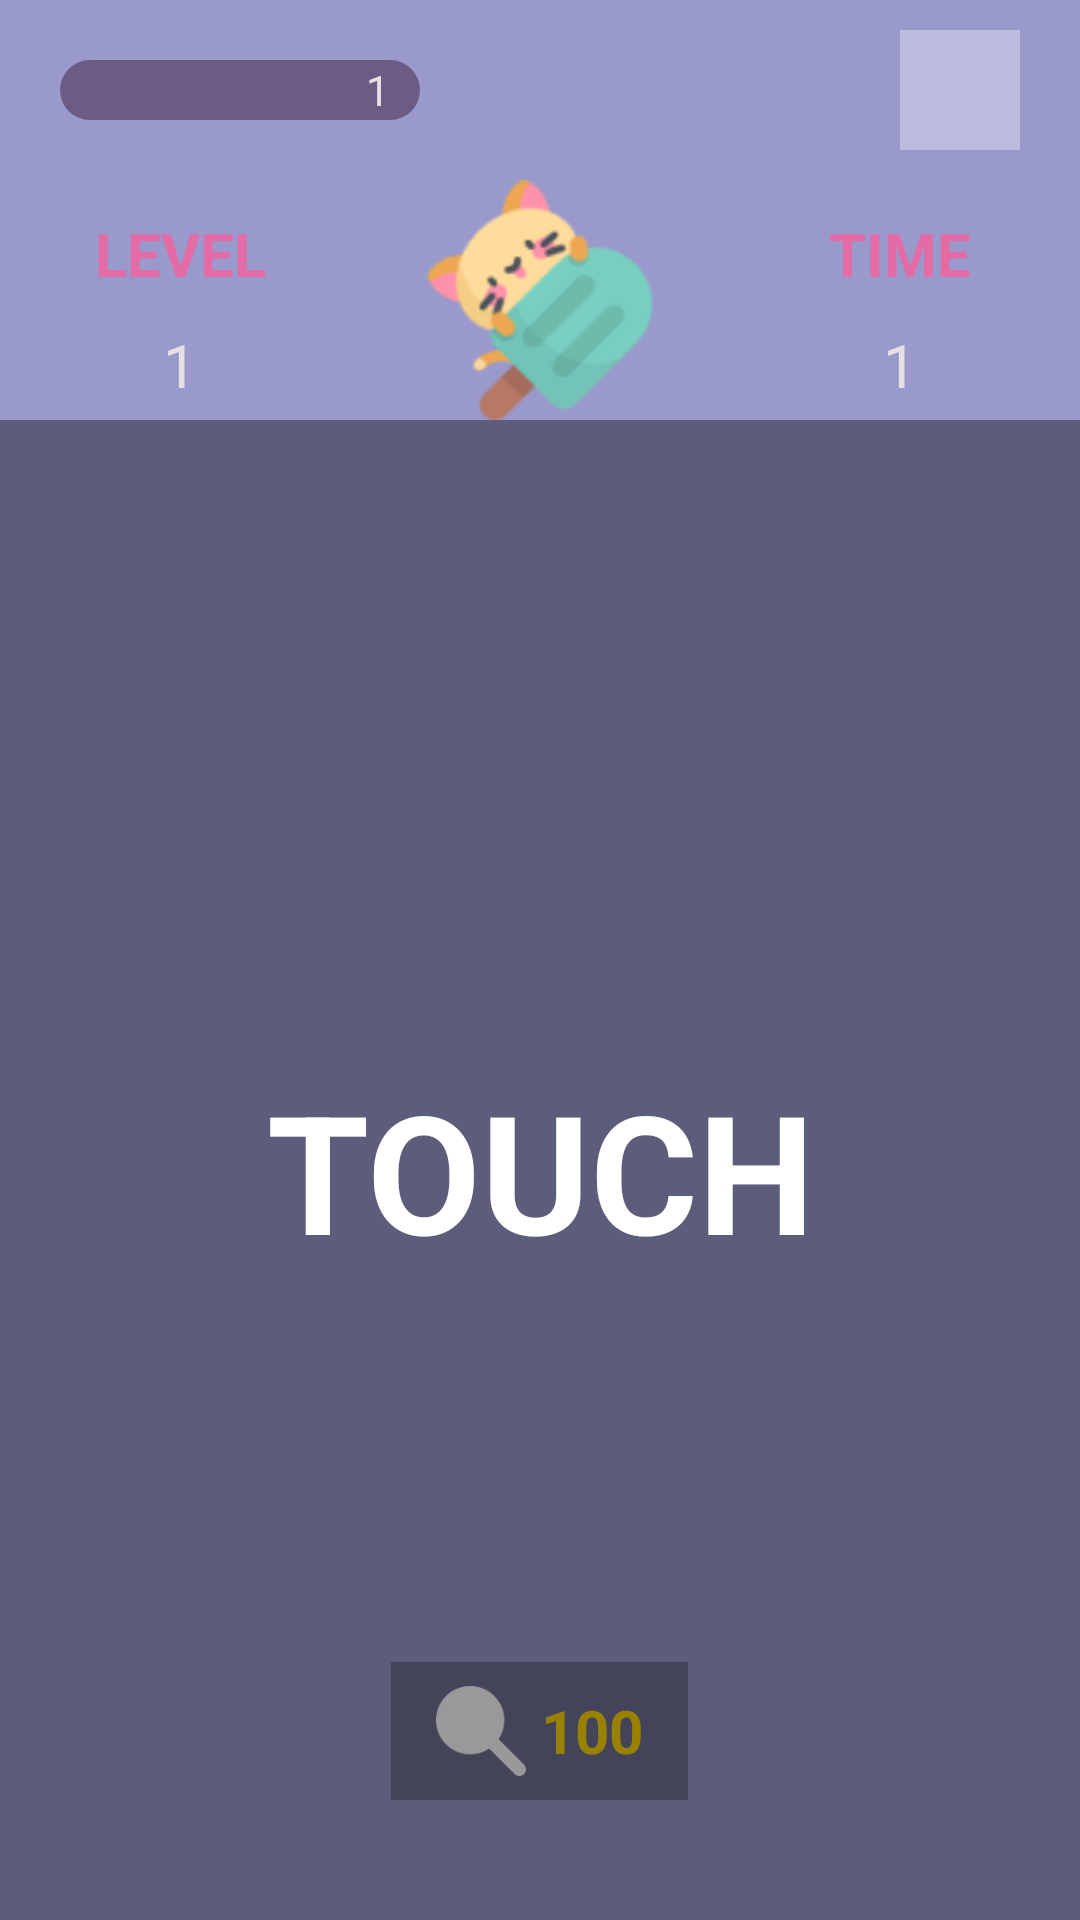

Screen size 1080w x 1920h. Icon name, then its box in pixels as rect(x1, y1, x2, y2):
kinhlup: rect(436, 1686, 526, 1776)
